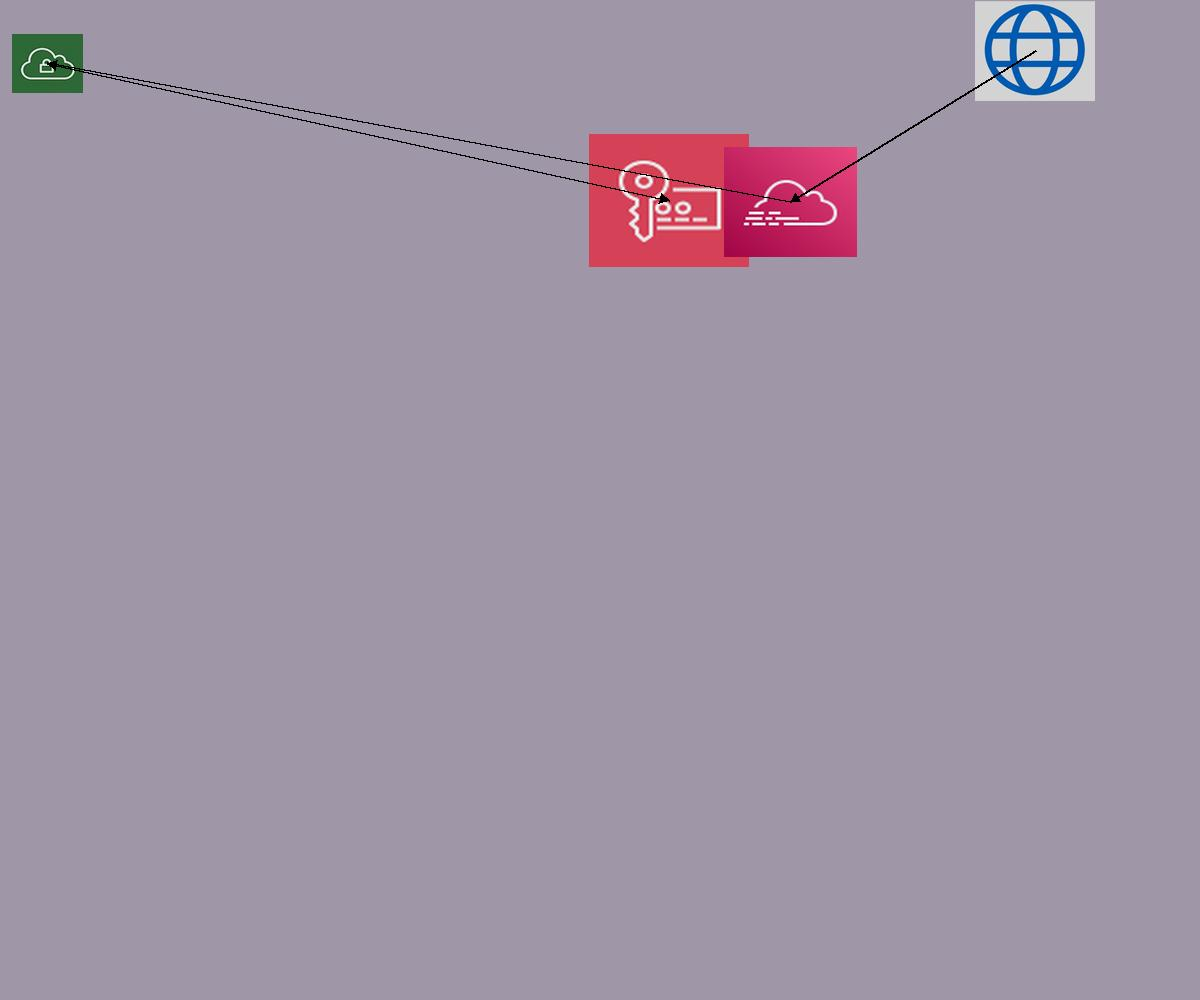AWS-CloudTrail: (724, 147, 857, 257)
AWS-Key-Management-Service: (589, 134, 749, 267)
AWS-Private_vpc: (12, 34, 83, 93)
Azure_http: (975, 1, 1095, 101)
